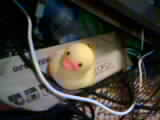duck: (45, 32, 101, 92)
